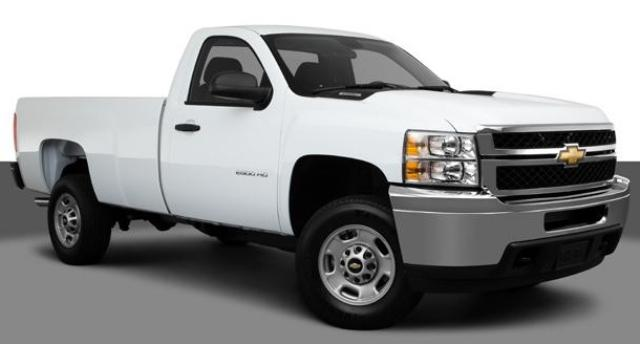pickup-truck: (9, 26, 631, 330)
